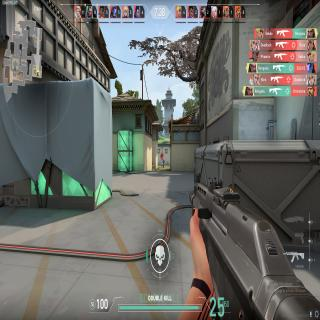ENEMY-HEAD: (164, 158, 166, 160)
